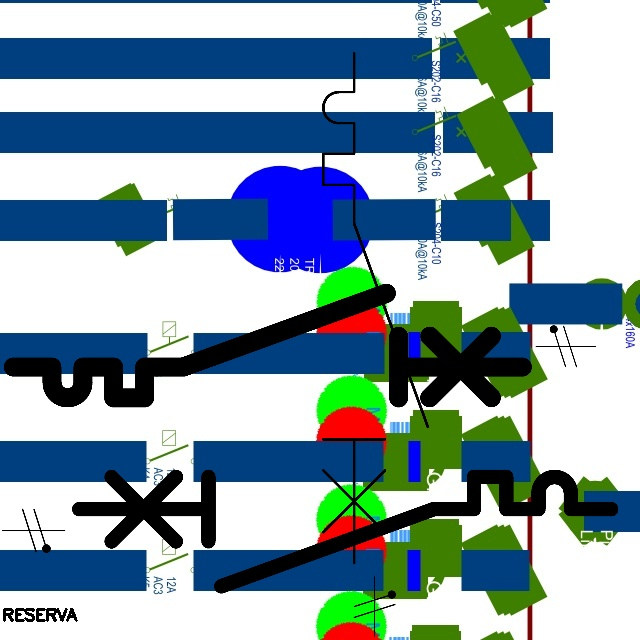interruptor_termomagnetico: (65, 463, 625, 600), (310, 40, 441, 576), (0, 280, 535, 411)
